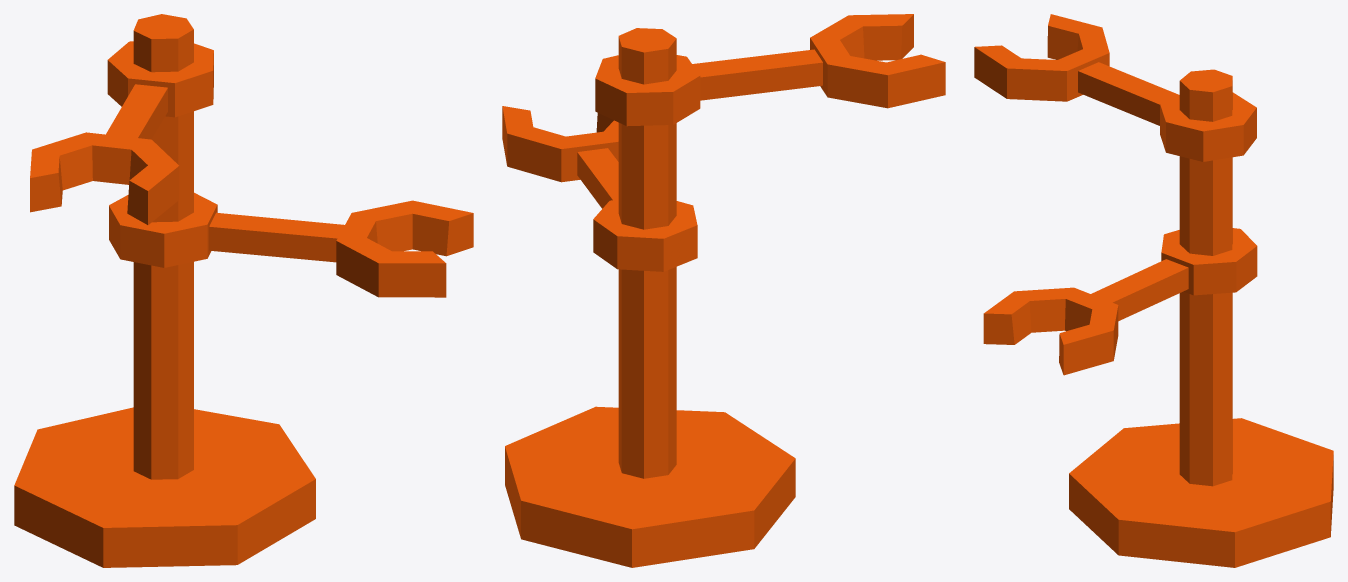
The model's file is Stander_1.fbx.
The picture shows the model from 3 angles, left to right: view 1: azimuth 30°, elevation 25°; view 2: azimuth 150°, elevation 25°; view 3: azimuth 270°, elevation 25°; orthographic projection. The views are drawn at different scales.
Visible parts, largest first — view 1: Stander_Empty.001, Stander_Arm.002, Stander_Arm.003; view 2: Stander_Empty.001, Stander_Arm.003, Stander_Arm.002; view 3: Stander_Empty.001, Stander_Arm.003, Stander_Arm.002.
Boxes of the visible parts, <box> form: Stander_Empty.001: <box>14,14,315,567</box>; Stander_Arm.002: <box>109,192,473,297</box>; Stander_Arm.003: <box>30,41,213,224</box>; Stander_Empty.001: <box>505,28,795,567</box>; Stander_Arm.003: <box>595,14,945,126</box>; Stander_Arm.002: <box>502,106,697,271</box>; Stander_Empty.001: <box>1069,69,1333,567</box>; Stander_Arm.003: <box>974,14,1256,161</box>; Stander_Arm.002: <box>983,228,1257,375</box>.
Size of the model in its own units: 67.22 by 68.47 by 51.9.
